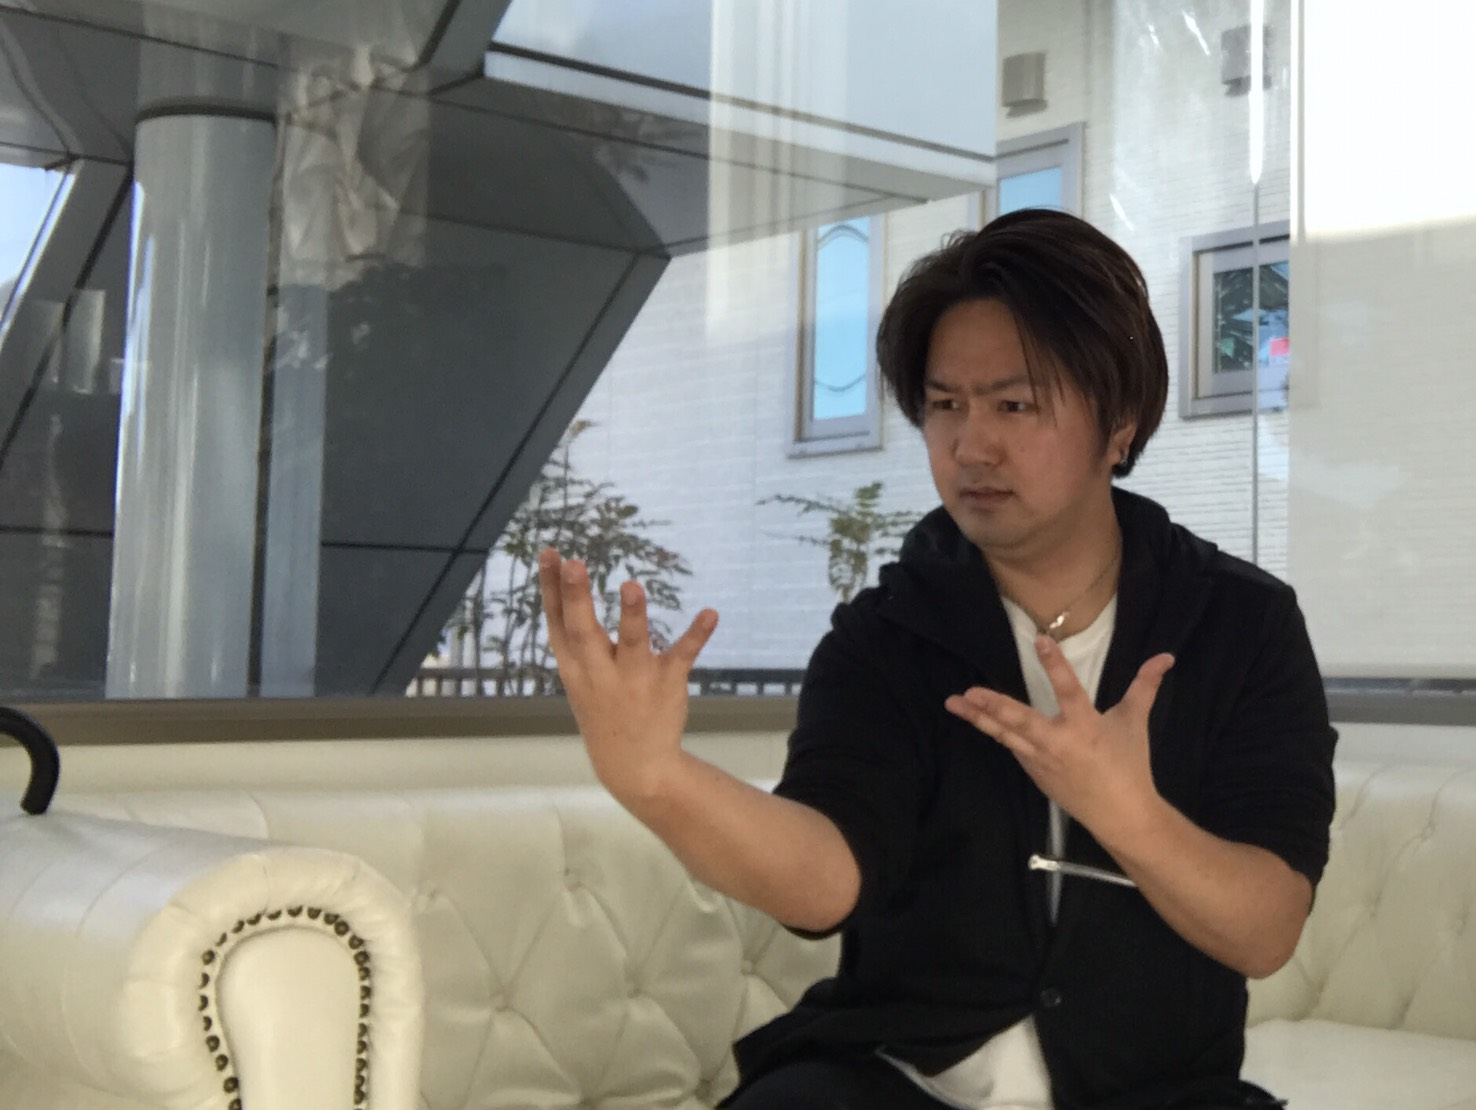face: (924, 297, 1137, 550)
hand: (532, 547, 720, 798), (944, 631, 1178, 812)
